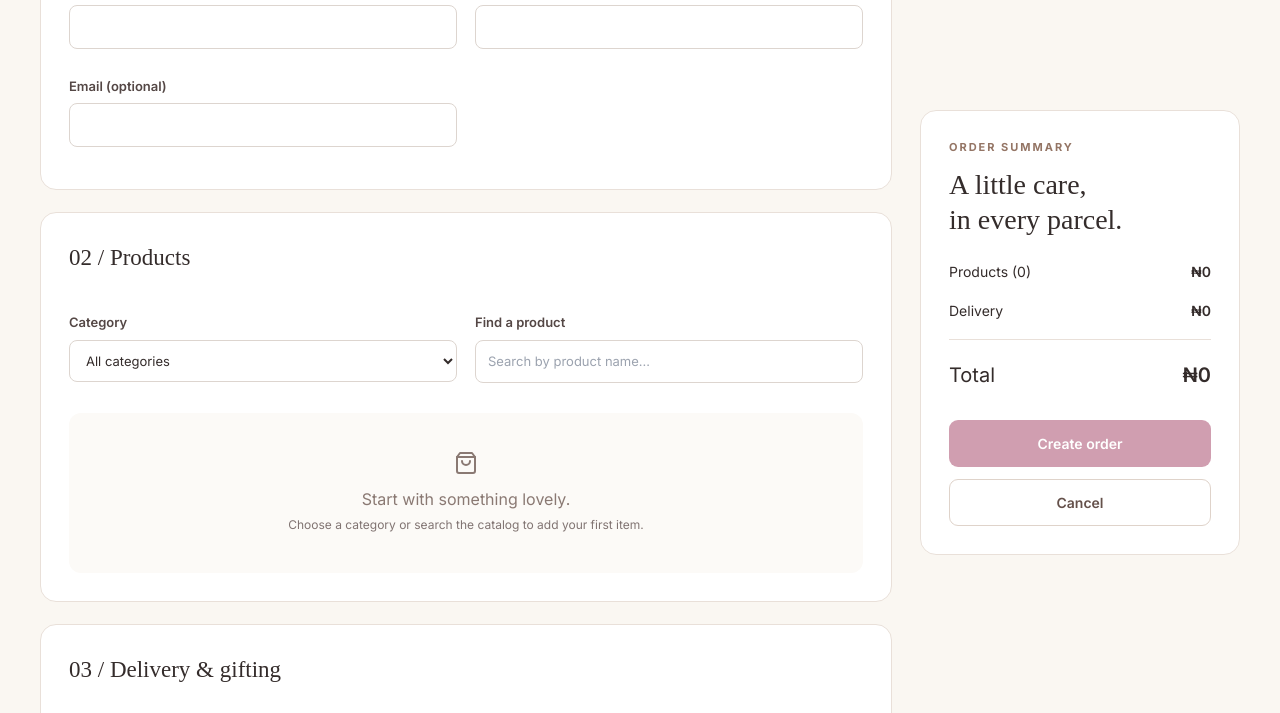
Test: category dropdown lists saved categories and shows products without a search term
(page scrolled)
Select "Bags" in the dropdown labelled "Category": [263, 361] box [69,340,457,382]
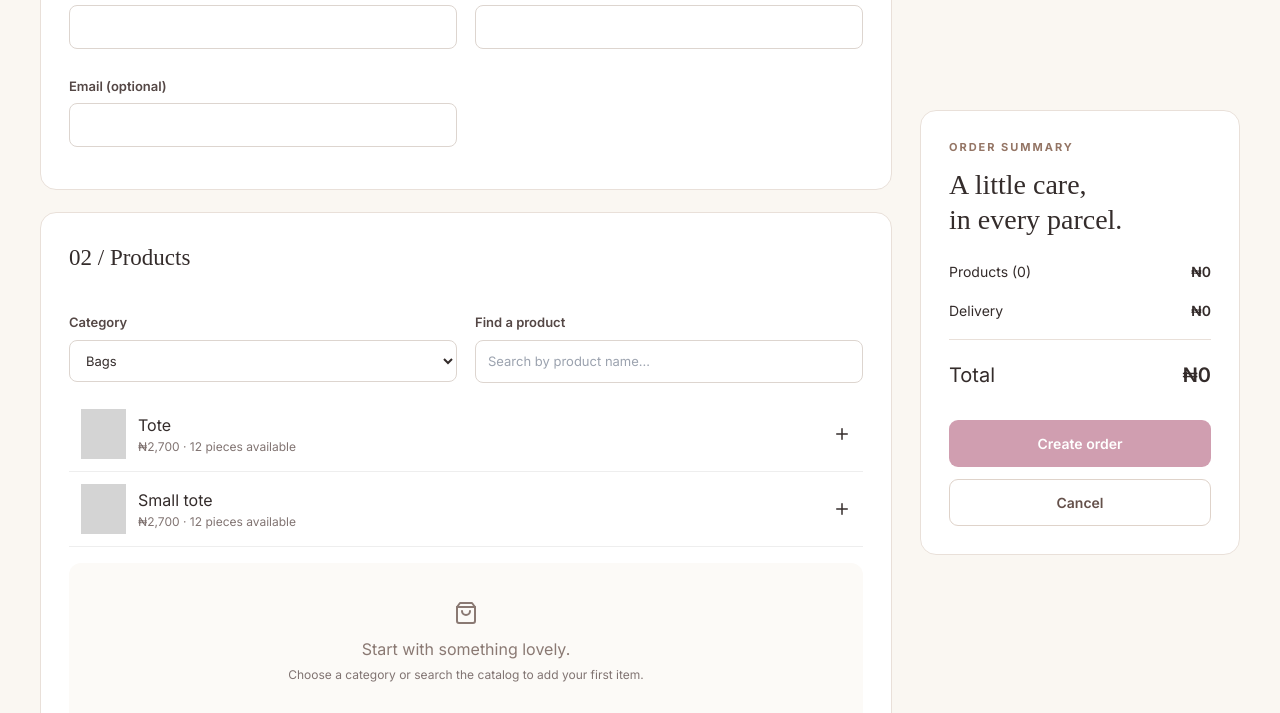
Now the button "Tote ₦2,700 · 12 pieces available" is shown
Now the button "Small tote ₦2,700 · 12 pieces available" is shown, box [69,472,863,547]
Click the button "Tote ₦2,700 · 12 pieces available": [104, 434] box [69,397,863,472]
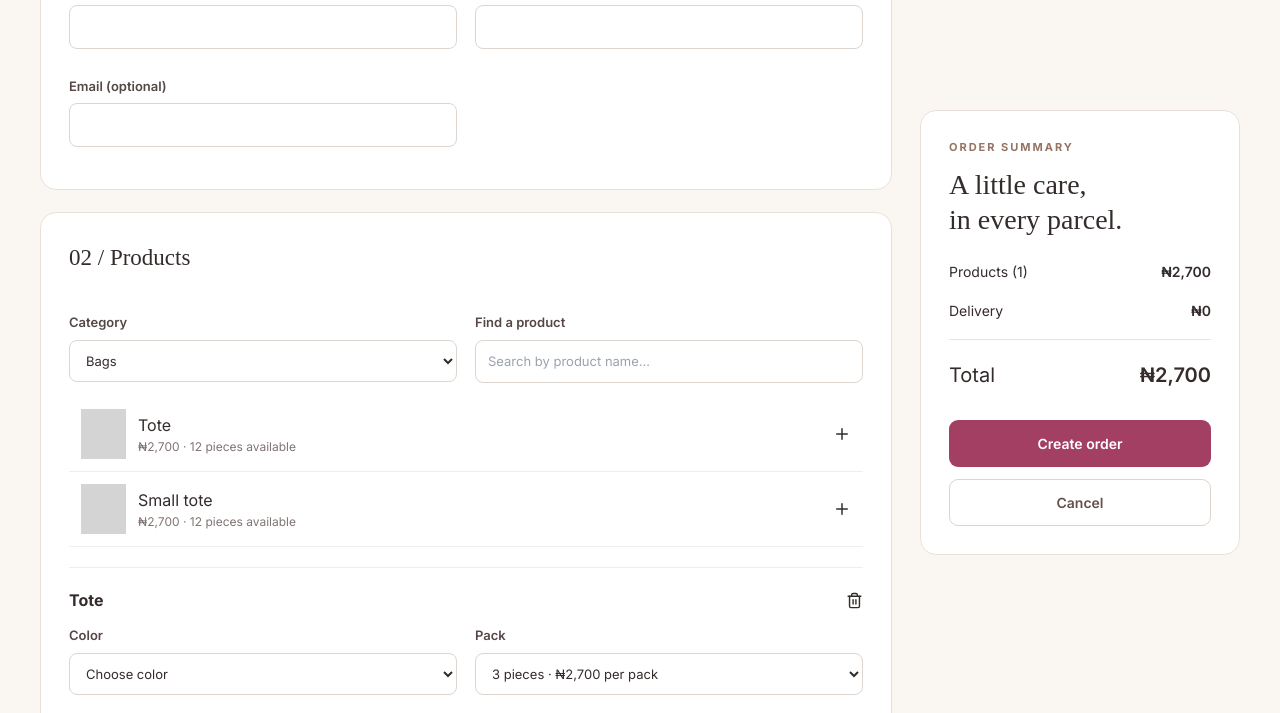
Now the dropdown labelled "Color" is shown, box [69,653,457,695]
